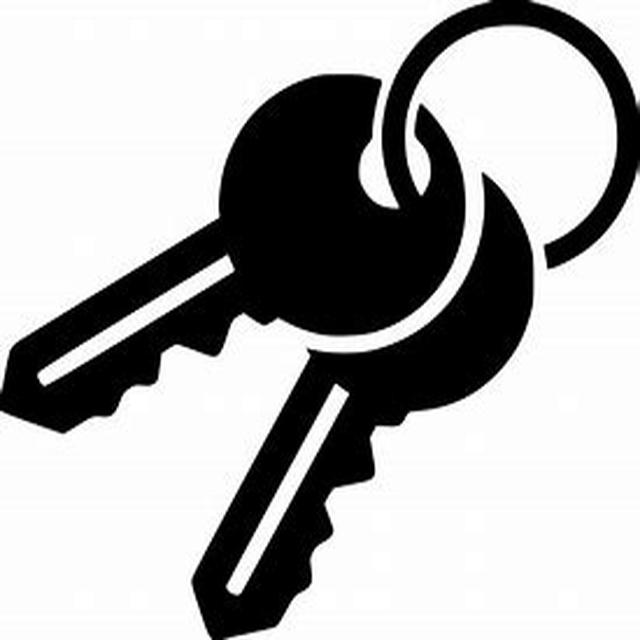key: (0, 11, 452, 422), (143, 94, 560, 519)
